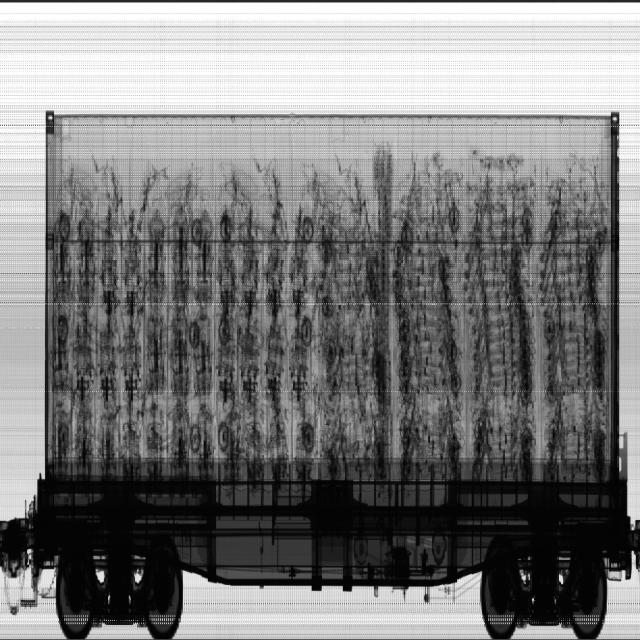bicycle: (61, 150, 640, 474)
